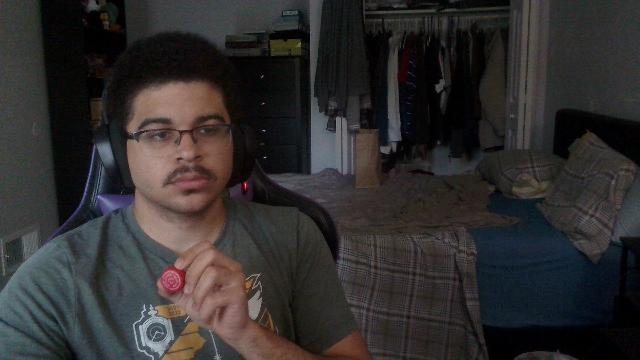cap: (161, 266, 185, 290)
